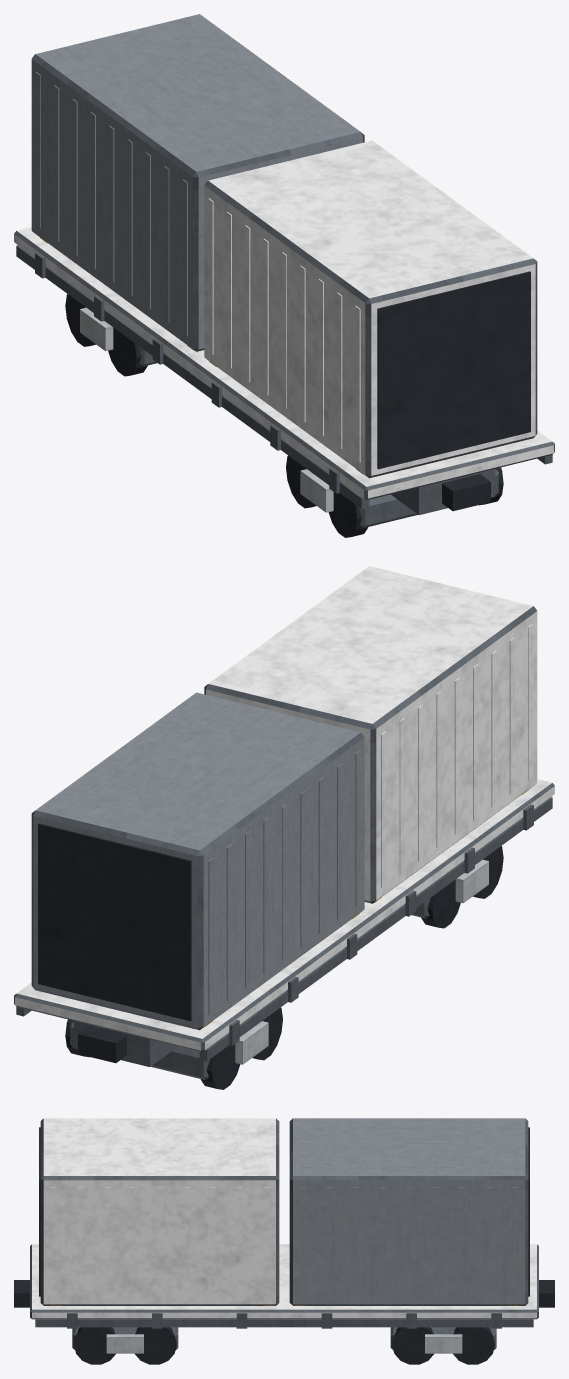
The model's file is train_car_loaded.gltf.
3 renders of one model, top to bottom at view 1: azimuth 30°, elevation 25°; view 2: azimuth 150°, elevation 25°; view 3: azimuth 270°, elevation 25°, orthographic. The views are drawn at different scales.
Visible parts, largest first — view 1: TrainCarLoaded; view 2: TrainCarLoaded; view 3: TrainCarLoaded.
Boxes of the visible parts, x1,y1,x2,y2 form: TrainCarLoaded: (14,14,554,537); TrainCarLoaded: (14,566,554,1089); TrainCarLoaded: (14,1118,554,1364).
Bounding box in the file's own units: 0.31 × 0.3989 × 1.02.
Materials: 6 (6 with a texture image).
